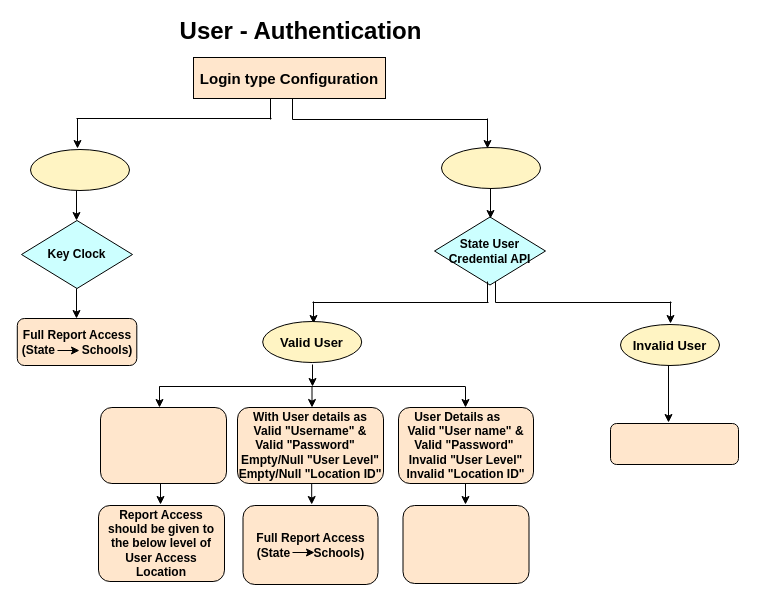
Some shapes in this 757 by 602 pixel diagram are drawn without their labels. The shapes that lost their labels are listed below. From the top down, each one's box as (x1, y1, x2, y2) in pixels, then its label:
(30, 148, 130, 190): CQube Login
(440, 146, 540, 188): State Login
(100, 406, 226, 484): Fetch User details along with User level and User Access Location
(610, 422, 738, 464): Error Message as "Invalid User Details"
(402, 504, 529, 584): Error Message as "Invalid User Details" Please Contact ADMIN
